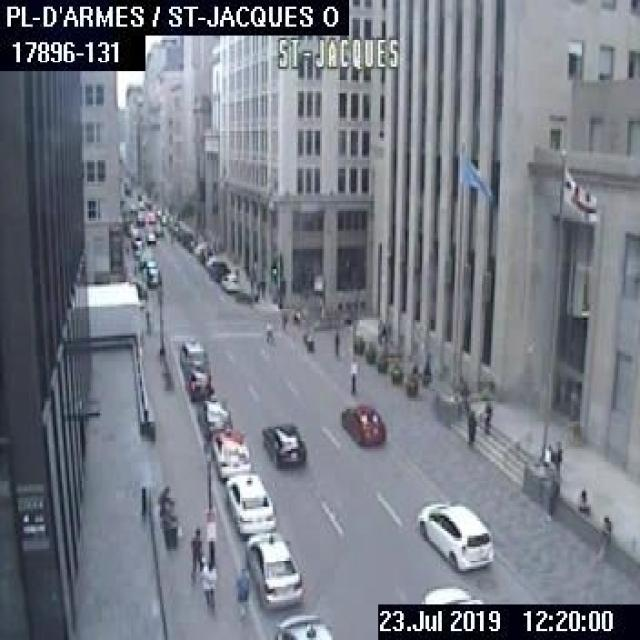cyclist: (262, 316, 275, 348)
pedestrian: (592, 511, 612, 567), (200, 564, 218, 611), (231, 562, 247, 614), (188, 526, 202, 583), (544, 467, 558, 519), (158, 504, 177, 537), (157, 484, 174, 514), (576, 487, 588, 516), (466, 407, 475, 443), (482, 401, 490, 433), (554, 439, 562, 469), (546, 443, 554, 466)
vehicle: (416, 498, 493, 571), (243, 529, 306, 607), (222, 471, 274, 534), (260, 418, 305, 467), (340, 400, 385, 447), (209, 425, 250, 476), (272, 609, 332, 638), (418, 582, 486, 602), (197, 393, 230, 434), (180, 334, 208, 369), (185, 366, 212, 400), (207, 258, 230, 279), (220, 271, 240, 291), (145, 267, 160, 286), (142, 258, 156, 274), (332, 330, 338, 354), (203, 254, 215, 265), (145, 232, 155, 244)
